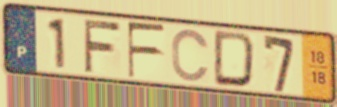1: (45, 17, 68, 70)
7: (262, 32, 296, 95)
C: (169, 27, 211, 84)
D: (211, 29, 258, 91)
F: (125, 21, 168, 81), (81, 17, 123, 75)
